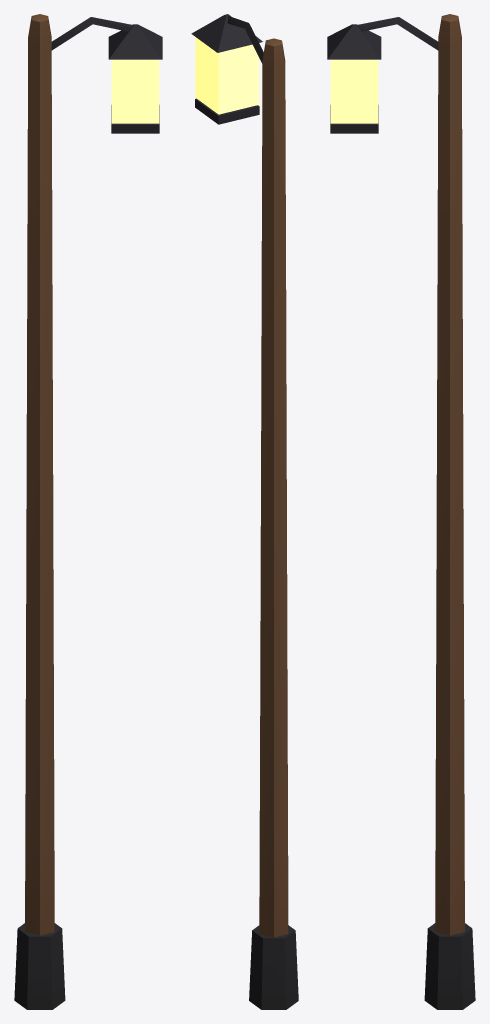
Rendered from lamp_lo.glb.
3 views of the same model, side by side, from view 1: azimuth 90°, elevation 25°; view 2: azimuth 210°, elevation 25°; view 3: azimuth 270°, elevation 25° (orthographic). The views are drawn at different scales.
Visible parts, largest first — view 1: pole, foot, glass, roof, arm, lantern_base; view 2: pole, glass, foot, roof, lantern_base, arm; view 3: pole, foot, glass, roof, arm, lantern_base.
Part boxes in pixels (x1,y1,x2,y2): pole: (25, 14, 54, 935); foot: (14, 923, 65, 1009); glass: (111, 59, 159, 123); roof: (108, 24, 162, 59); arm: (51, 17, 133, 50); lantern_base: (111, 105, 159, 133); pole: (259, 38, 288, 937); glass: (195, 37, 258, 114); foot: (249, 925, 298, 1009); roof: (191, 14, 262, 52); lantern_base: (195, 98, 259, 124); arm: (227, 16, 263, 63); pole: (435, 14, 464, 935); foot: (424, 923, 475, 1009); glass: (330, 59, 378, 123); roof: (327, 24, 381, 59); arm: (356, 17, 438, 50); lantern_base: (330, 105, 378, 133).
Size of the model in its own units: 0.3394 by 6.82 by 0.9297.
